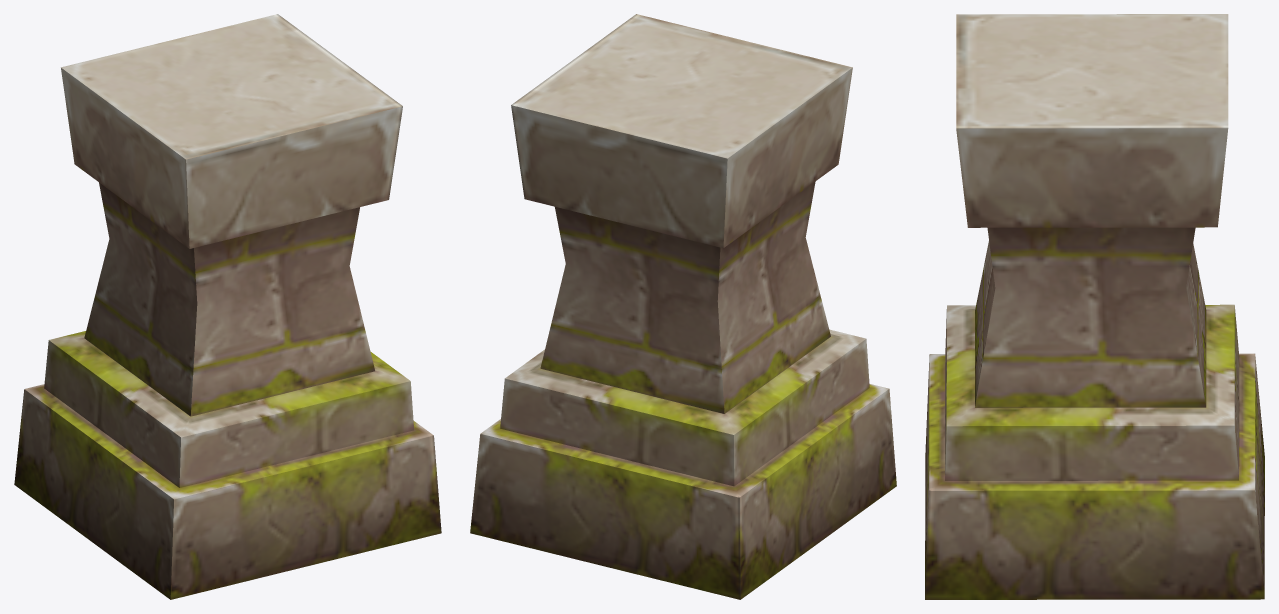
The model's file is Level01-shidun01.FBX.
The picture shows the model from 3 angles, left to right: view 1: azimuth 30°, elevation 25°; view 2: azimuth 150°, elevation 25°; view 3: azimuth 270°, elevation 25°; orthographic projection. The views are drawn at different scales.
Visible parts, largest first — view 1: Level01-shidun01; view 2: Level01-shidun01; view 3: Level01-shidun01.
Part boxes in pixels (x1,y1,x2,y2): Level01-shidun01: (14,14,441,599); Level01-shidun01: (470,14,896,599); Level01-shidun01: (925,14,1264,599).
Size of the model in its own units: 0.8192 by 0.8198 by 1.22.
